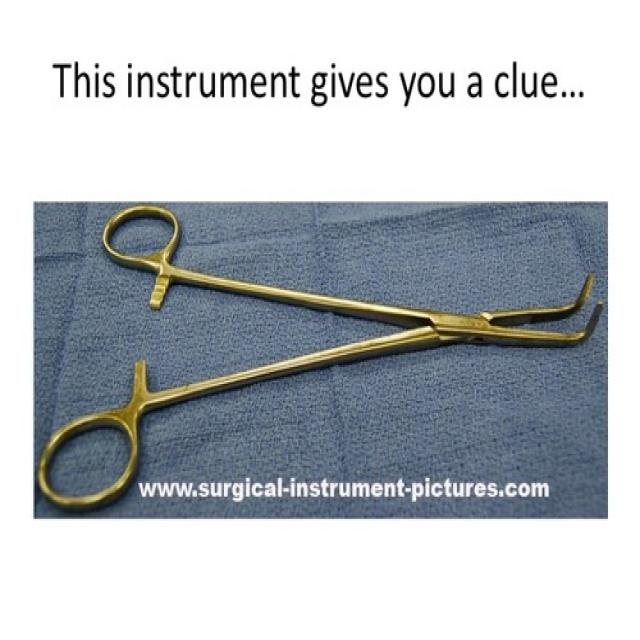B3: (32, 203, 607, 517)
